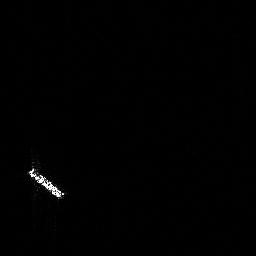ship: (27, 168, 65, 201)
